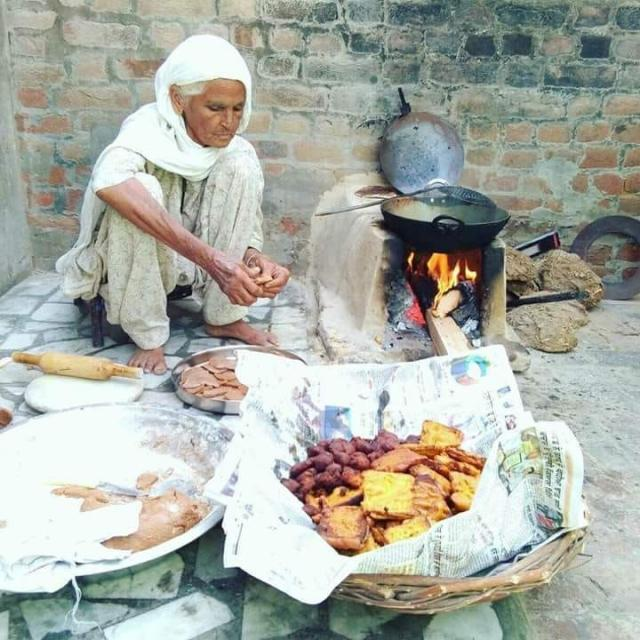fire: (408, 252, 477, 326)
